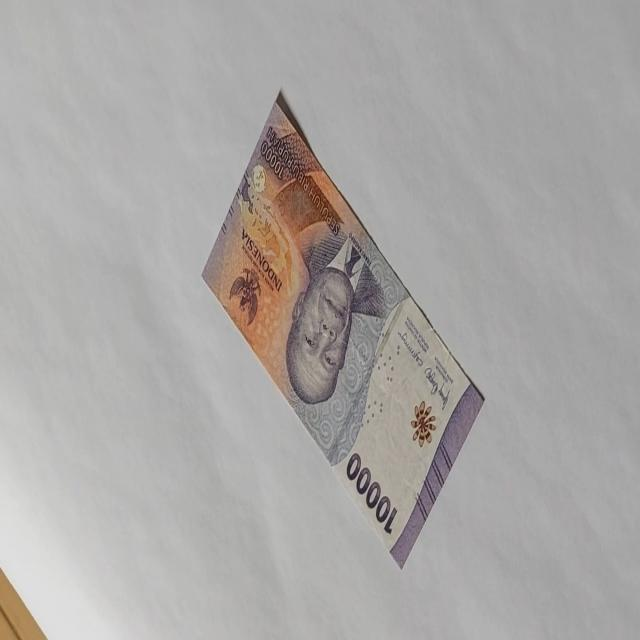sepuluh ribu rupiah: (200, 90, 486, 569), (346, 450, 398, 536)
